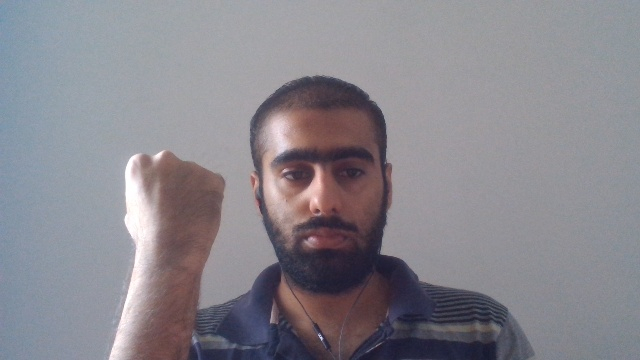rock: (123, 149, 226, 260)
